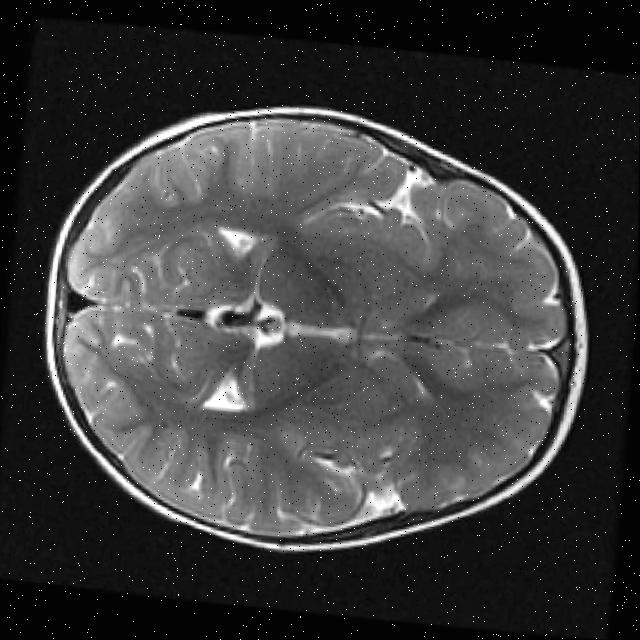NoTumor: (24, 76, 605, 584)
